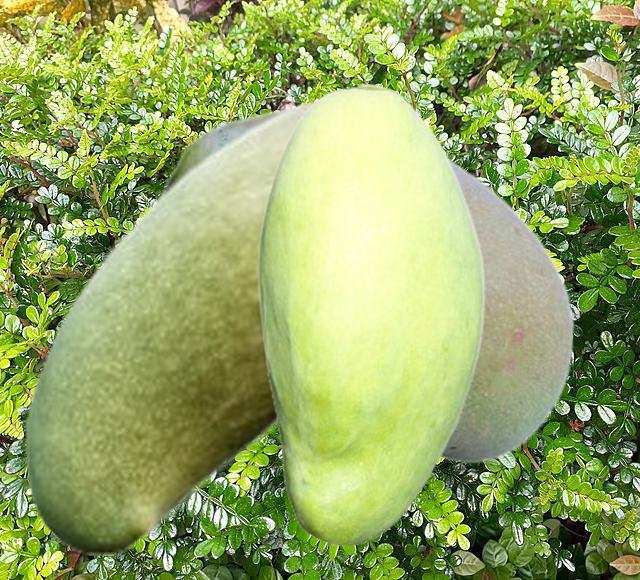green_mango: (157, 104, 574, 463), (23, 87, 343, 554), (257, 83, 484, 545)
